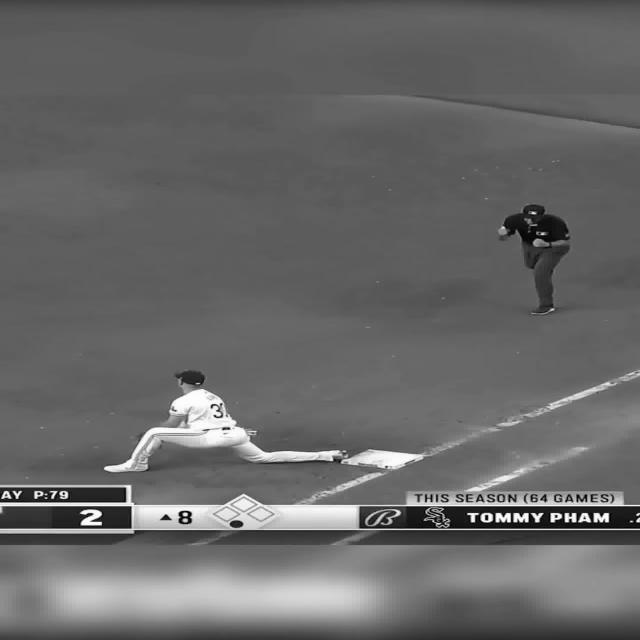base: (357, 451, 425, 466)
shoe: (102, 460, 148, 472), (530, 307, 554, 315), (332, 450, 348, 462)
